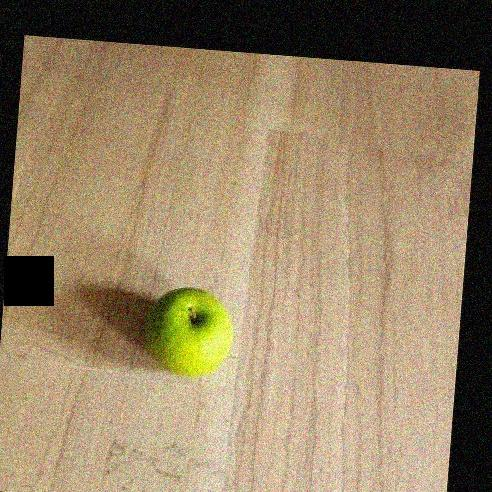green apple: (141, 282, 238, 382)
